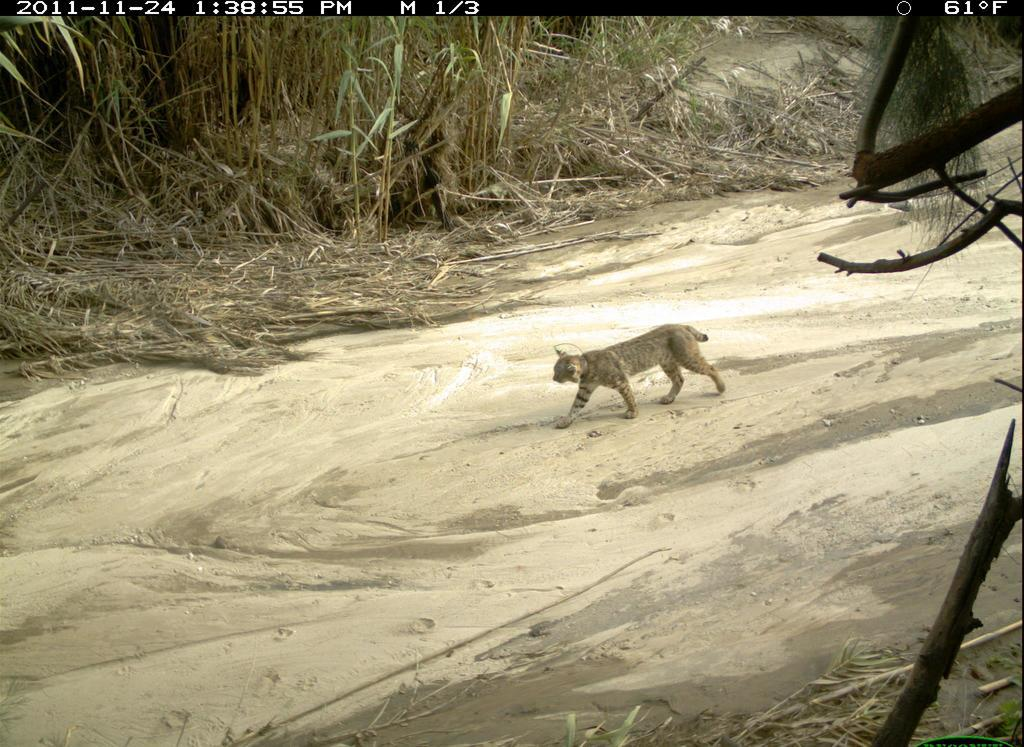bobcat: (543, 319, 734, 436)
